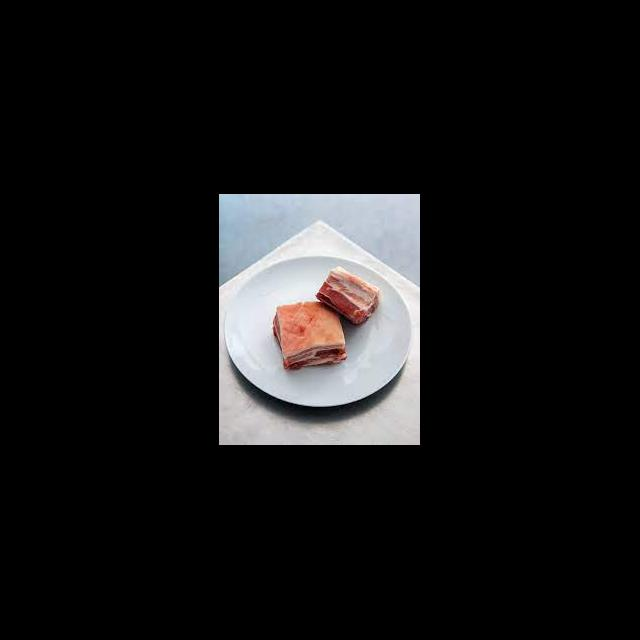pork: (273, 303, 331, 366), (318, 266, 381, 323)
